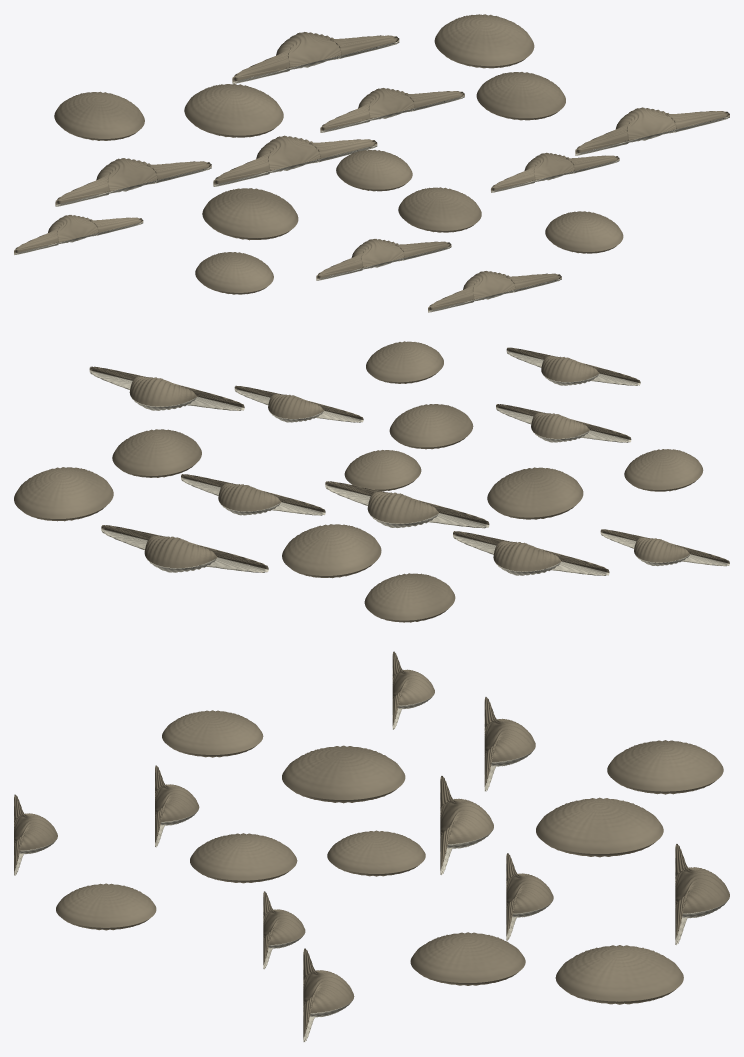
File: brachiopod-bed-v2.glb
3 renders of one model, top to bottom at view 1: azimuth 30°, elevation 25°; view 2: azimuth 150°, elevation 25°; view 3: azimuth 270°, elevation 25°, orthographic. The views are drawn at different scales.
Visible parts, largest first — view 1: brachiopod-bed-v2; view 2: brachiopod-bed-v2; view 3: brachiopod-bed-v2.
Boxes of the visible parts, bbox=[...] form: brachiopod-bed-v2: bbox=[14, 14, 729, 312]; brachiopod-bed-v2: bbox=[14, 341, 729, 622]; brachiopod-bed-v2: bbox=[14, 651, 729, 1041].
Size of the model in its own units: 0.2506 by 0.0121 by 0.1967.
